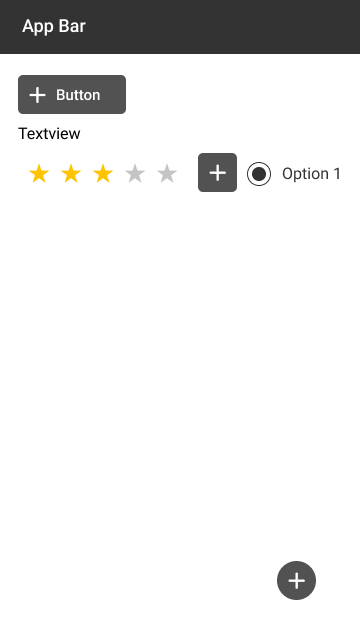button: (17, 74, 128, 117)
buttonIcon: (197, 150, 239, 194)
floatingButton: (274, 558, 319, 603)
radioButton: (245, 160, 345, 188)
ratingBar: (20, 159, 184, 191)
textView: (17, 124, 84, 144)
toolbar: (1, 1, 360, 56)
